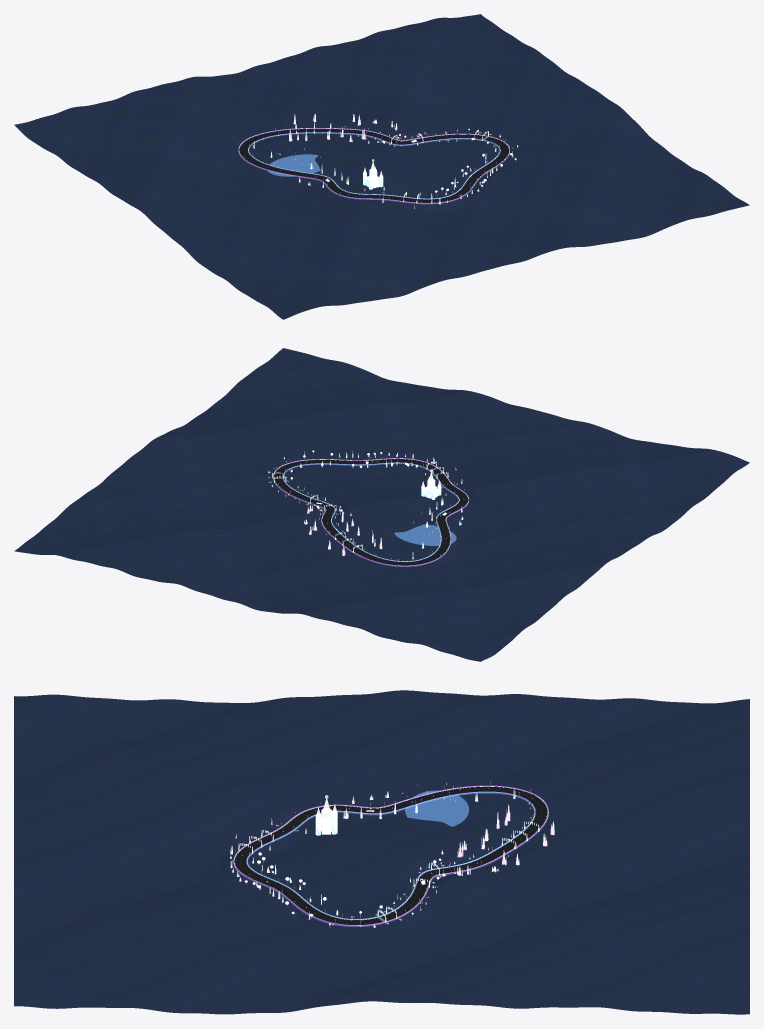
Rendered from course.glb.
3 renders of one model, top to bottom at view 1: azimuth 30°, elevation 25°; view 2: azimuth 150°, elevation 25°; view 3: azimuth 270°, elevation 25°, orthographic. The views are drawn at different scales.
Visible parts, largest first — view 1: Terrain, RoadSurface, CrystalLake, wall_right, RoadUnderside, wall_left; view 2: Terrain, RoadSurface, CrystalLake, wall_right; view 3: Terrain, RoadSurface, CrystalLake, wall_right, RoadUnderside, wall_left.
Boxes of the visible parts, box(x1,y1,x2,y2) form: Terrain: box(14, 14, 749, 319); RoadSurface: box(239, 128, 509, 202); CrystalLake: box(267, 154, 320, 176); wall_right: box(238, 128, 509, 203); RoadUnderside: box(238, 133, 509, 204); wall_left: box(249, 132, 499, 198); Terrain: box(14, 348, 749, 661); RoadSurface: box(273, 459, 468, 565); CrystalLake: box(394, 524, 456, 545); wall_right: box(273, 458, 469, 566); Terrain: box(14, 690, 749, 1014); RoadSurface: box(234, 786, 547, 924); CrystalLake: box(405, 790, 469, 826); wall_right: box(233, 785, 548, 925); RoadUnderside: box(233, 792, 548, 926); wall_left: box(247, 791, 534, 919).
Size of the model in its own units: 1600 by 108 by 1600.
Materials: 504 (3 with a texture image).
